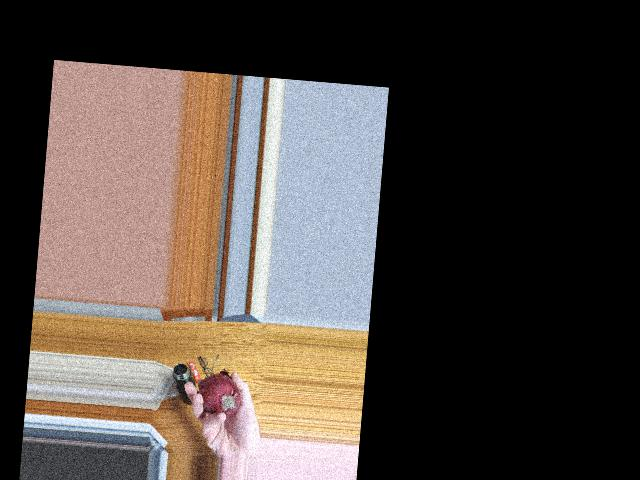onion: (201, 376, 244, 423)
